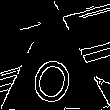O_NE: (27, 39, 82, 106)
